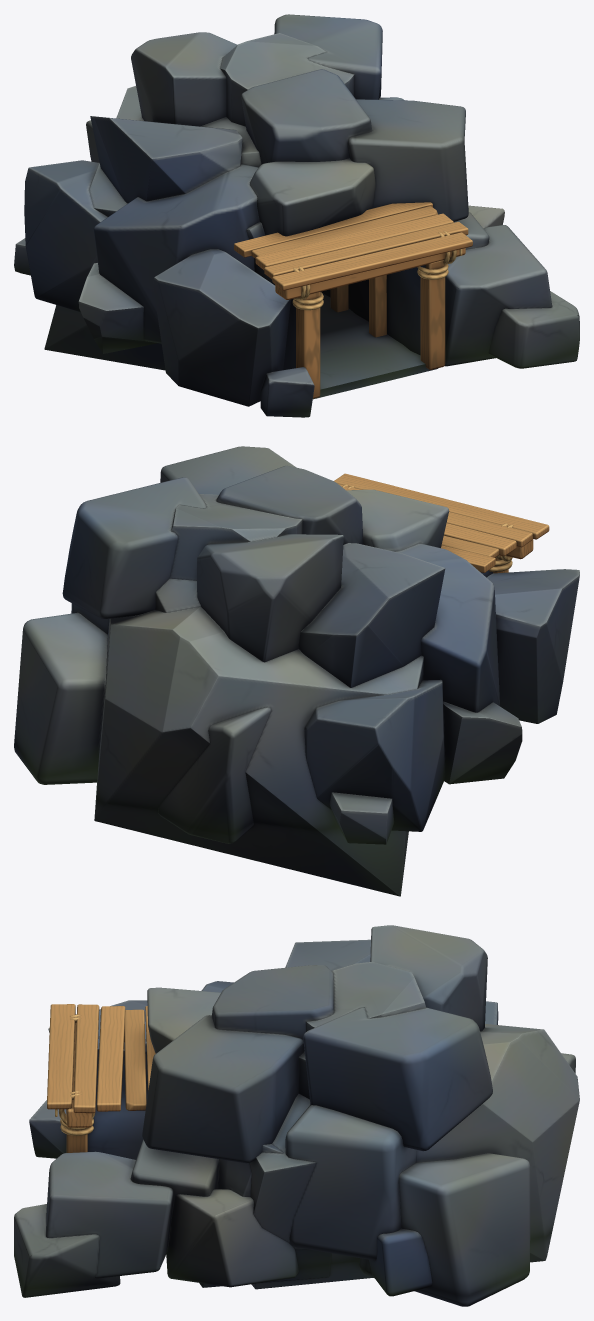
Rendered from Mine_Cave.fbx.
The picture shows the model from 3 angles, top to bottom: view 1: azimuth 30°, elevation 25°; view 2: azimuth 150°, elevation 25°; view 3: azimuth 270°, elevation 25°; orthographic projection. The views are drawn at different scales.
Parts seen in each view (by area): view 1: Rocks, Wood; view 2: Rocks, Wood; view 3: Rocks, Wood.
Part boxes in pixels (x1,y1,x2,y2): Rocks: (14,14,579,417); Wood: (234,202,472,398); Rocks: (14,446,579,896); Wood: (334,473,549,573); Rocks: (14,925,579,1306); Wood: (47,1004,155,1152).
Bounding box in the file's own units: 12.72 × 8.84 × 14.9.
3 materials, 2 textured.
